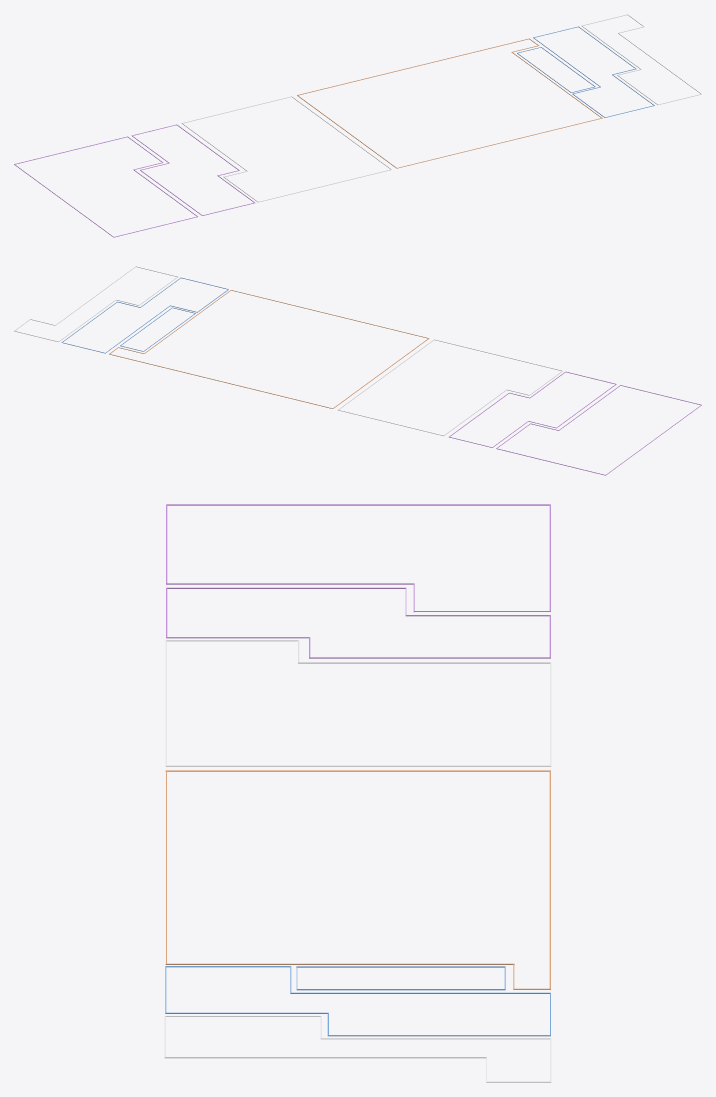
File: signage.glb
3 views of the same model, one above another, from view 1: azimuth 30°, elevation 25°; view 2: azimuth 150°, elevation 25°; view 3: azimuth 270°, elevation 25° (orthographic). The views are drawn at different scales.
Size of the model in its own units: 3803 by 2.5 by 1076.
